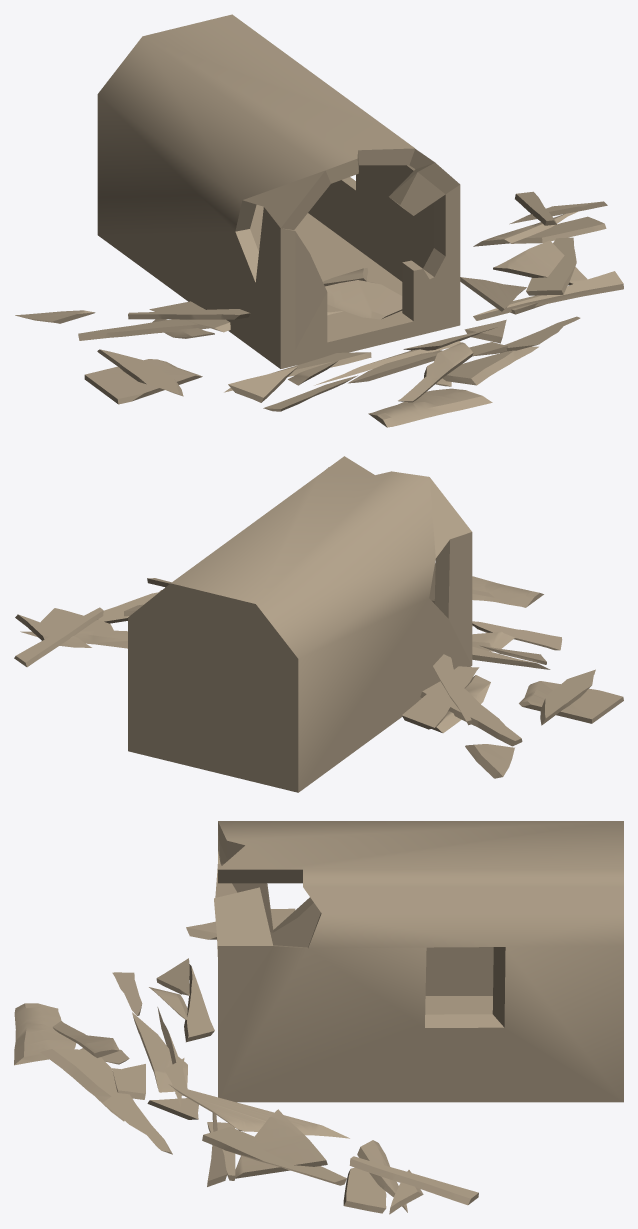
File: house4.fbx
3 views of the same model, one above another, from view 1: azimuth 30°, elevation 25°; view 2: azimuth 150°, elevation 25°; view 3: azimuth 270°, elevation 25° (orthographic). The views are drawn at different scales.
Parts seen in each view (by area): view 1: shard15; view 2: shard15; view 3: shard15.
Part boxes in pixels (x1,y1,x2,y2): shard15: (15, 14, 623, 427); shard15: (14, 456, 623, 792); shard15: (14, 821, 623, 1214).
Bounding box in the file's own units: 1035 × 341 × 872.
